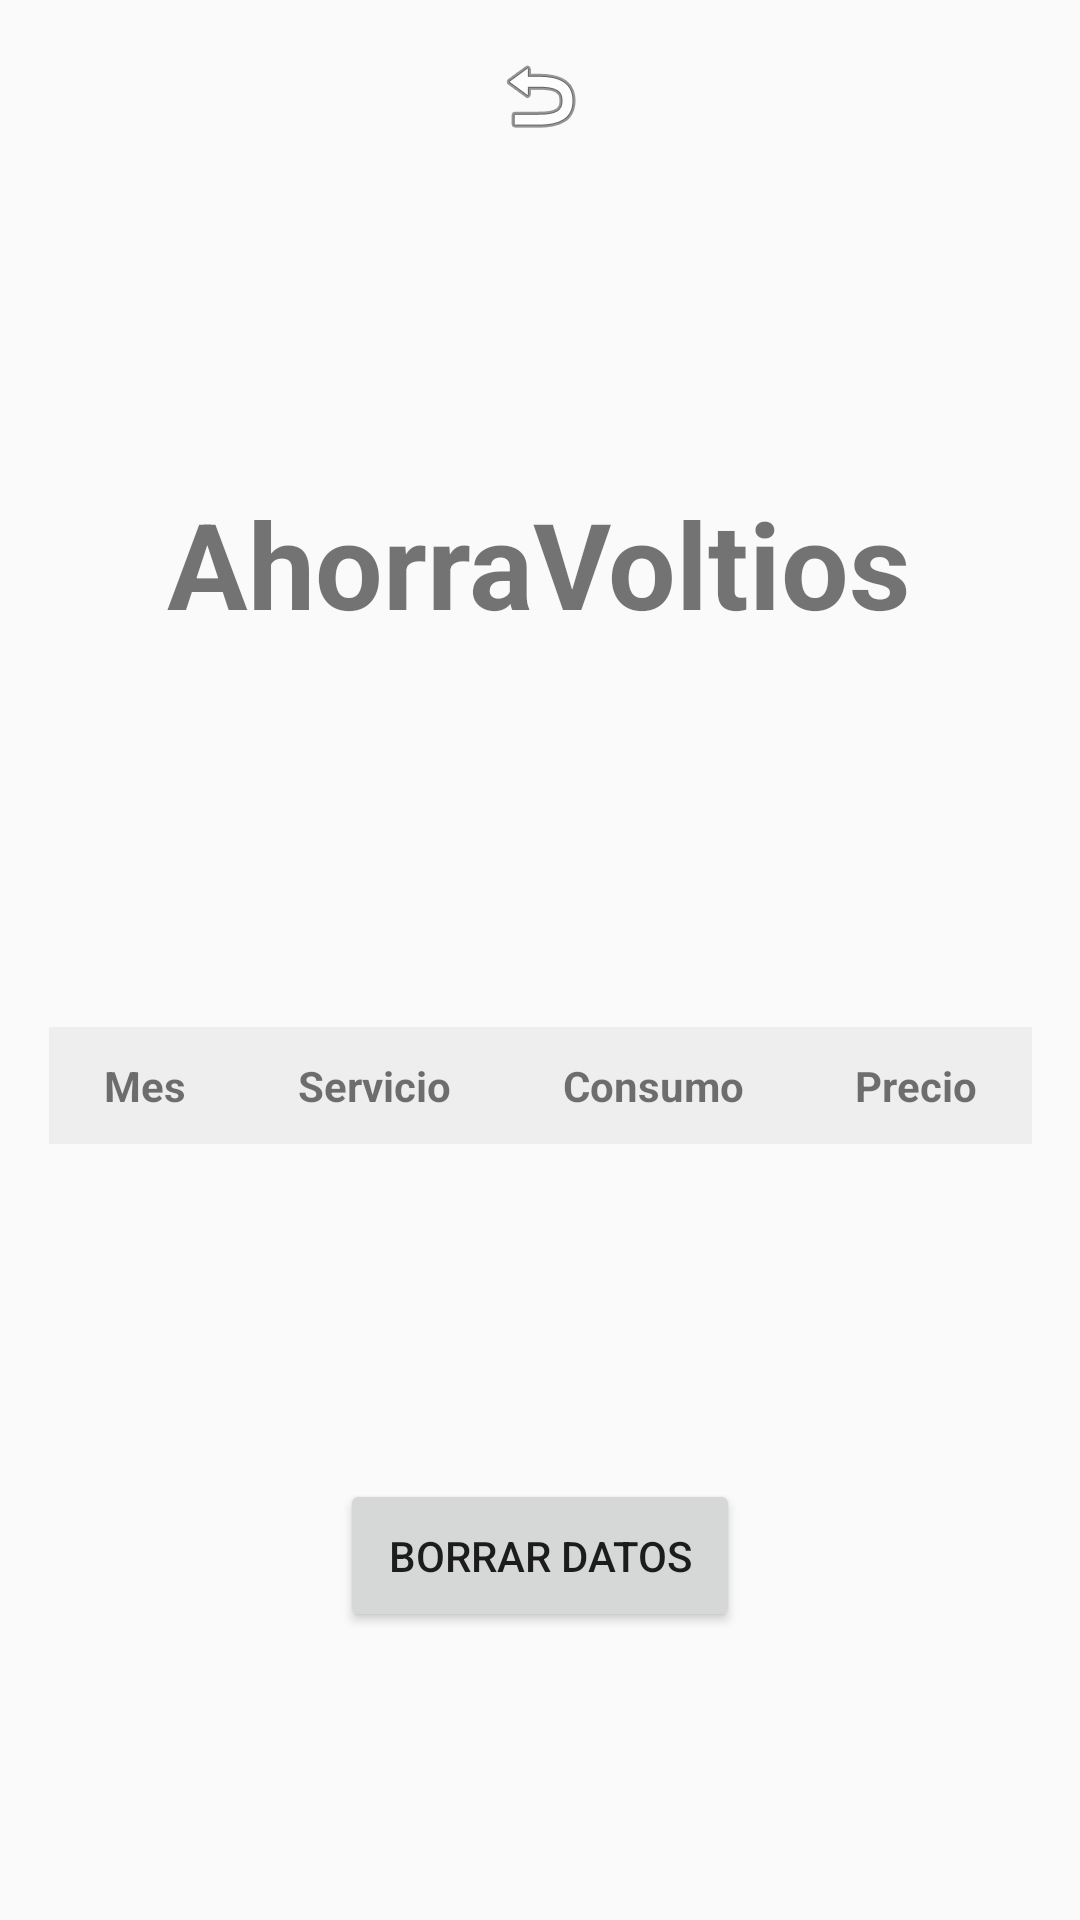

Named icons in this screenshot (1080w x 1920h) and their centers, [x,y]:
revert: [541,96]
